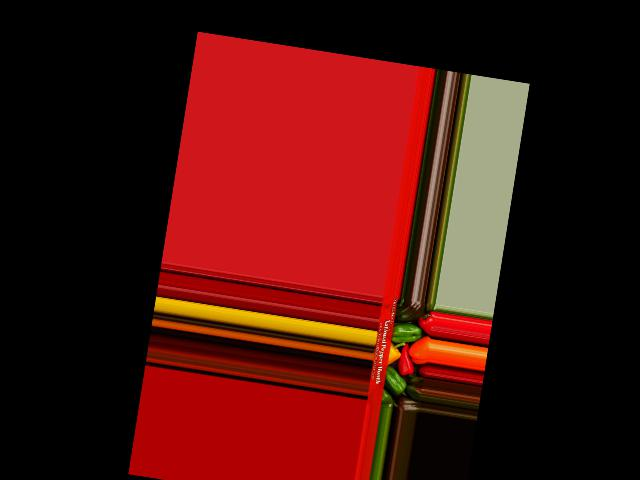bell_pepper: (394, 298, 425, 324)
